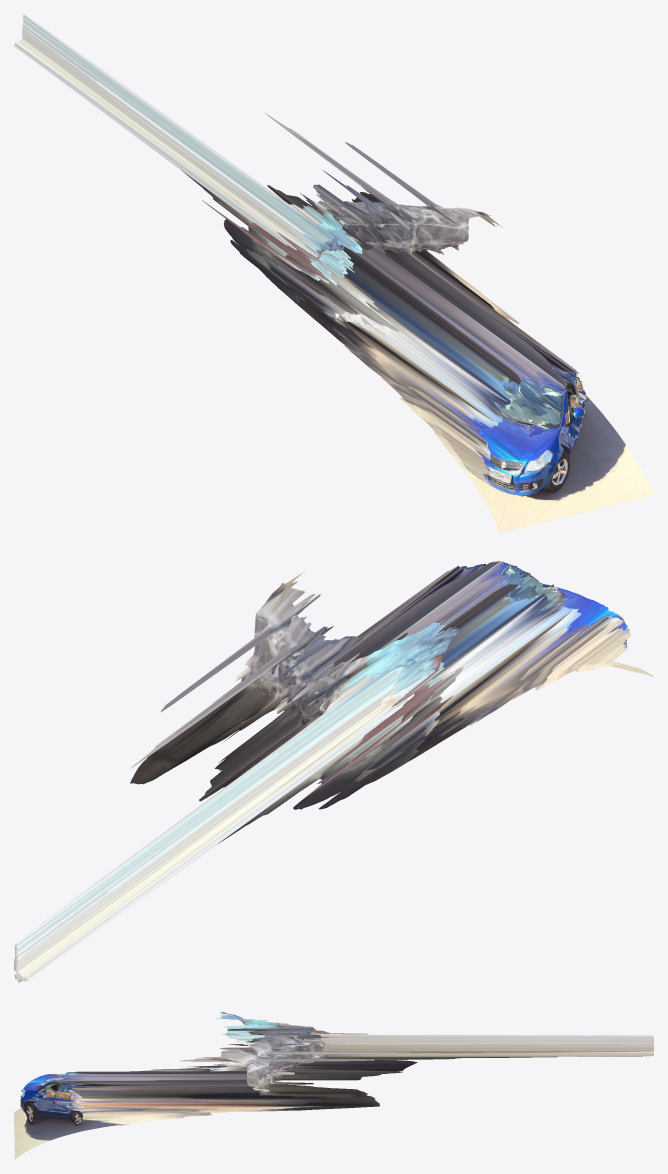
File: suzuki_sx4_2008.glb
The picture shows the model from 3 angles, top to bottom: view 1: azimuth 30°, elevation 25°; view 2: azimuth 150°, elevation 25°; view 3: azimuth 270°, elevation 25°; orthographic projection. The views are drawn at different scales.
Parts seen in each view (by area): view 1: Material2 (×11); view 2: Material2 (×11); view 3: Material2 (×11).
Part boxes in pixels (left/top/right/bottom): Material2 (×11): left=14, top=14, right=653, bottom=532; Material2 (×11): left=14, top=561, right=653, bottom=982; Material2 (×11): left=14, top=1011, right=653, bottom=1159.
Size of the model in its own units: 239 by 239 by 1371.
Materials: 1 (1 with a texture image).
